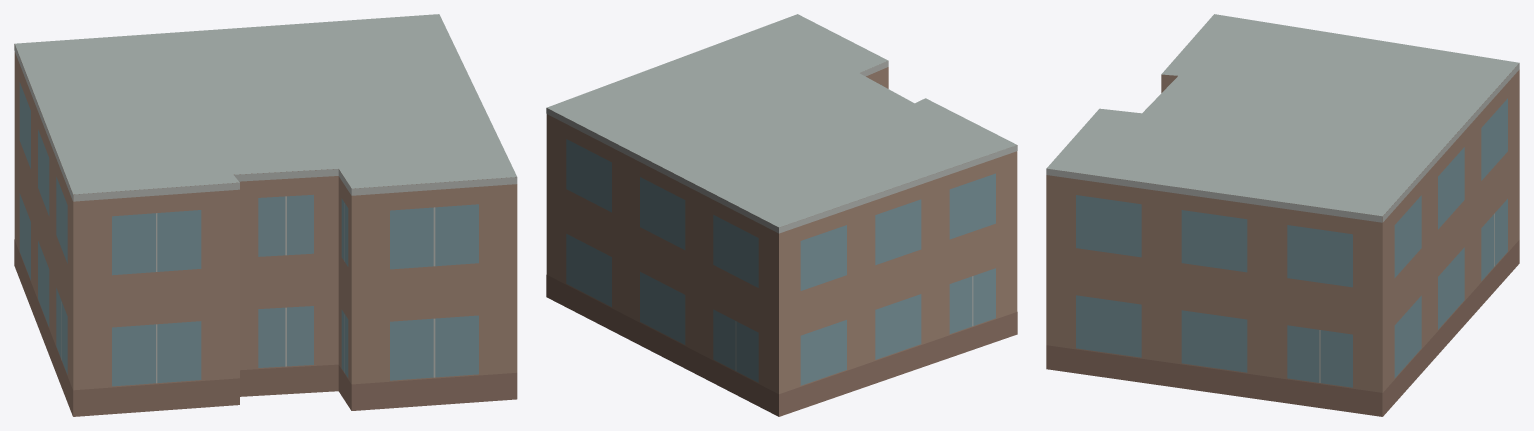
Rendered from survey-upis-32875200.glb.
The picture shows the model from 3 angles, left to right: view 1: azimuth 30°, elevation 25°; view 2: azimuth 150°, elevation 25°; view 3: azimuth 270°, elevation 25°; orthographic projection. The views are drawn at different scales.
Visible parts, largest first — view 1: survey-upis-32875200.tmp; view 2: survey-upis-32875200.tmp; view 3: survey-upis-32875200.tmp.
Boxes of the visible parts, x1,y1,x2,y2 form: survey-upis-32875200.tmp: (14,14,517,416); survey-upis-32875200.tmp: (546,14,1017,416); survey-upis-32875200.tmp: (1046,14,1519,416).
Size of the model in its own units: 16.45 by 7.6 by 16.26.
